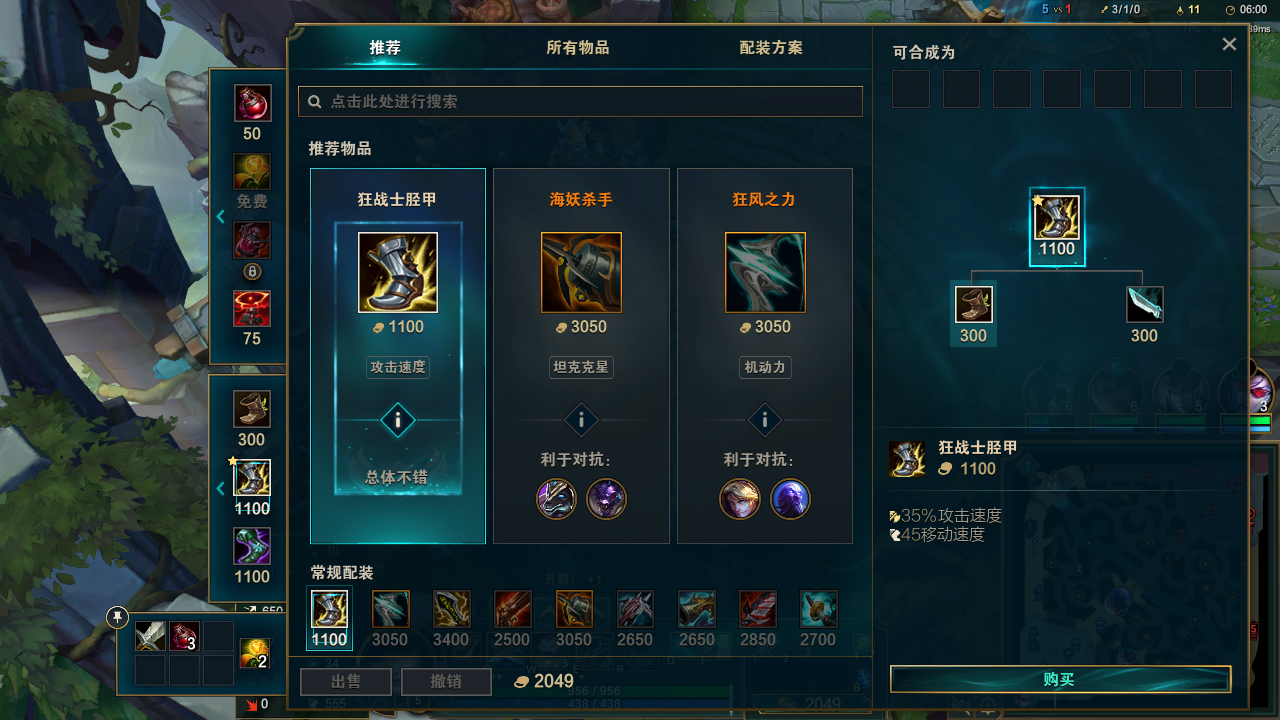GTH: (744, 402, 782, 438), (562, 404, 602, 435)
TJGTH: (336, 401, 464, 455)
TJJM: (331, 32, 439, 75)
